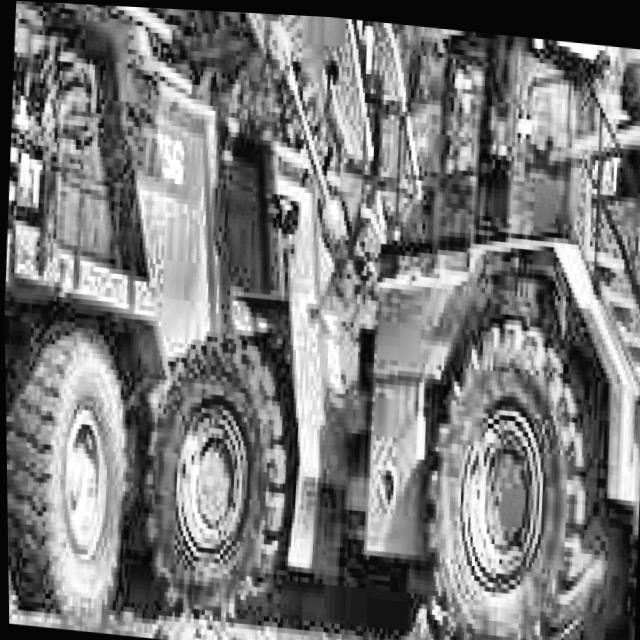buldozerpayloadergrader: (8, 0, 640, 640)
dump_truck: (0, 0, 259, 640)
